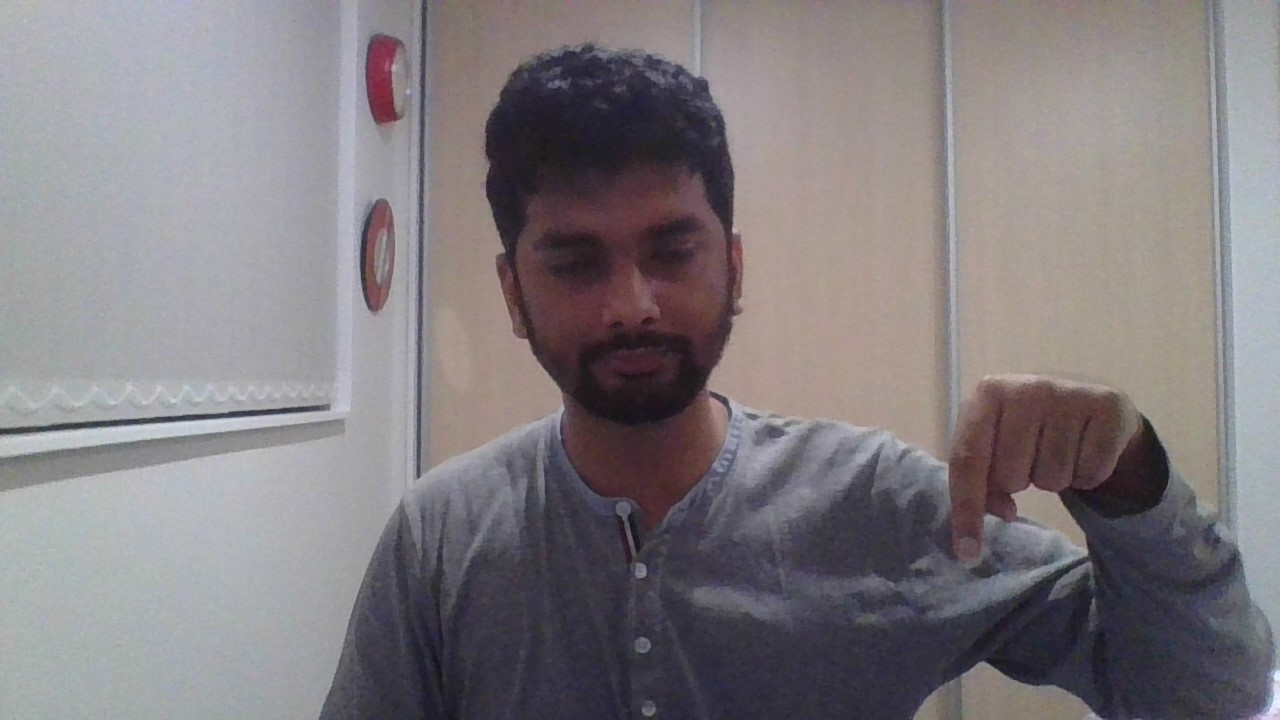below: (950, 373, 1142, 564)
